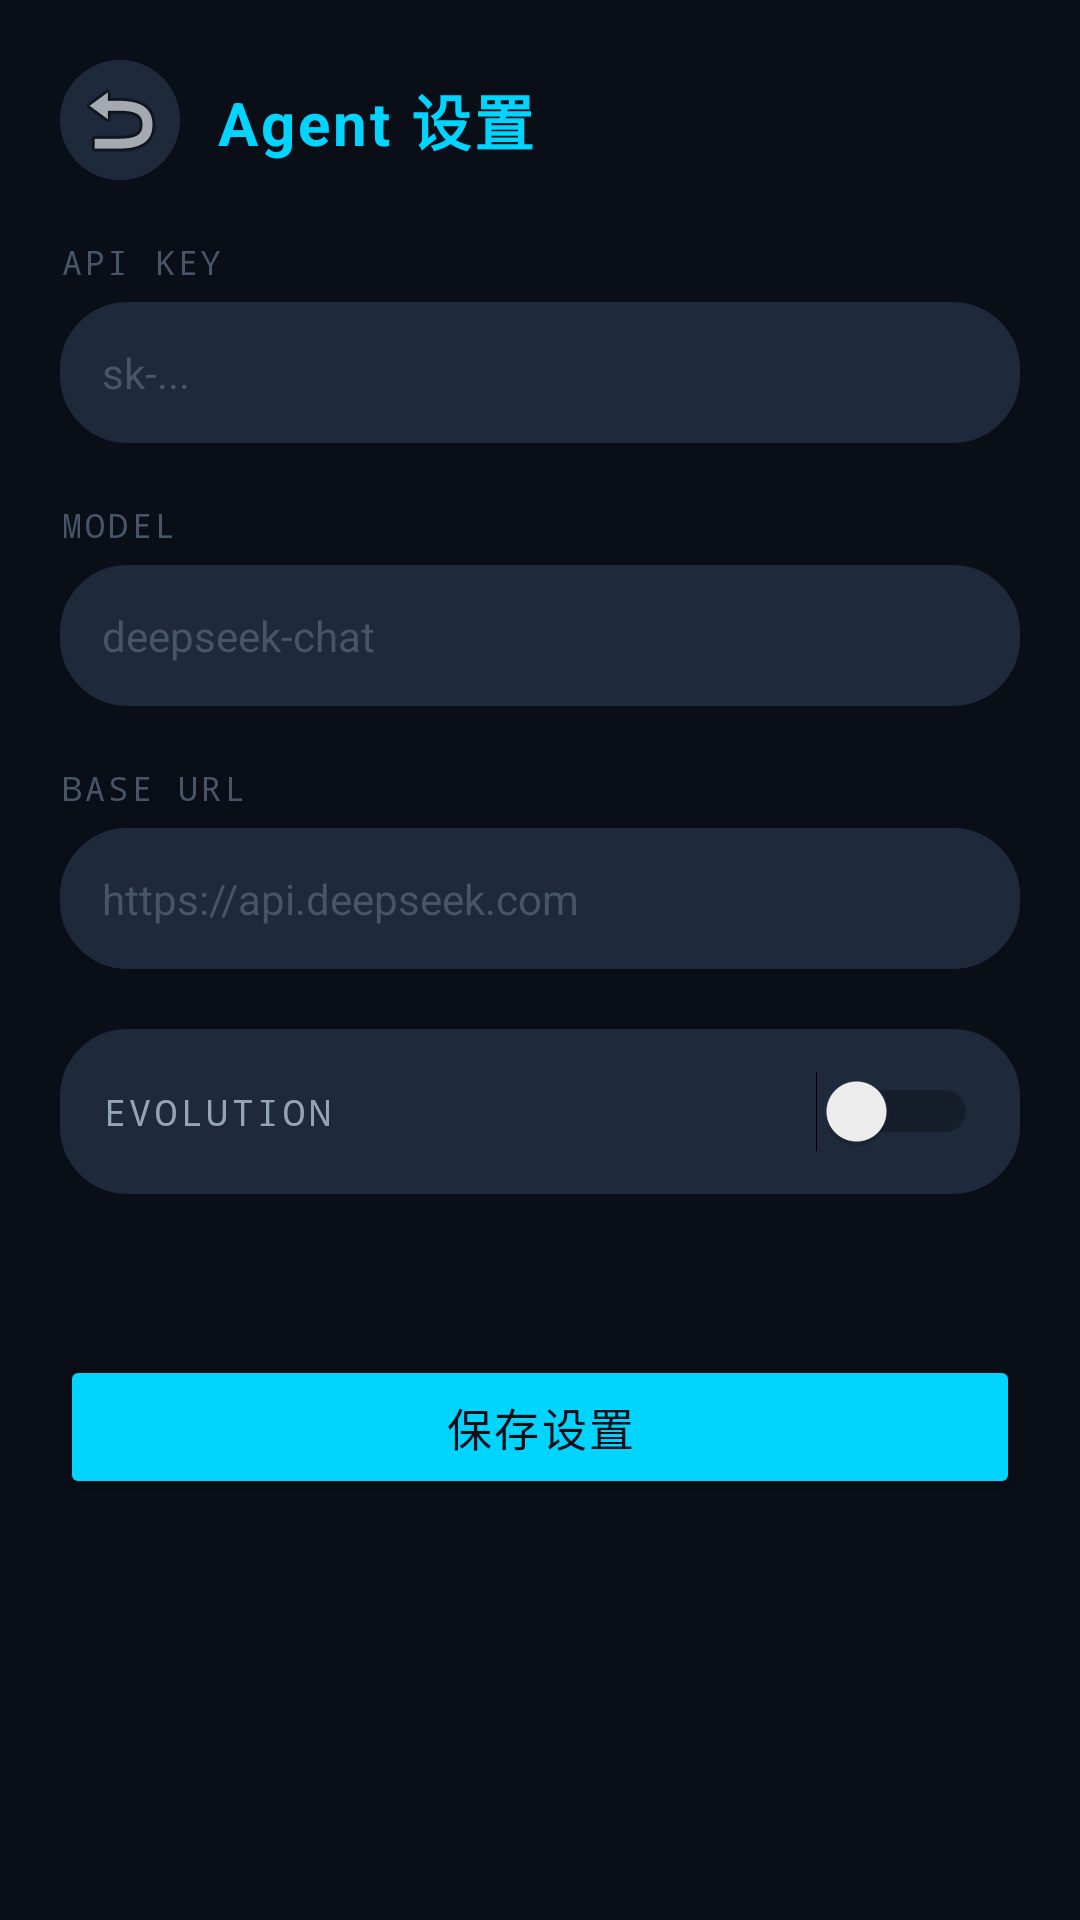

Icons on this 1080 x 1920 Android screen, each with the point to tap as [x,y]:
revert: [120,120]
